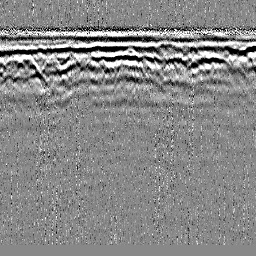cavity: (113, 46, 148, 79)
